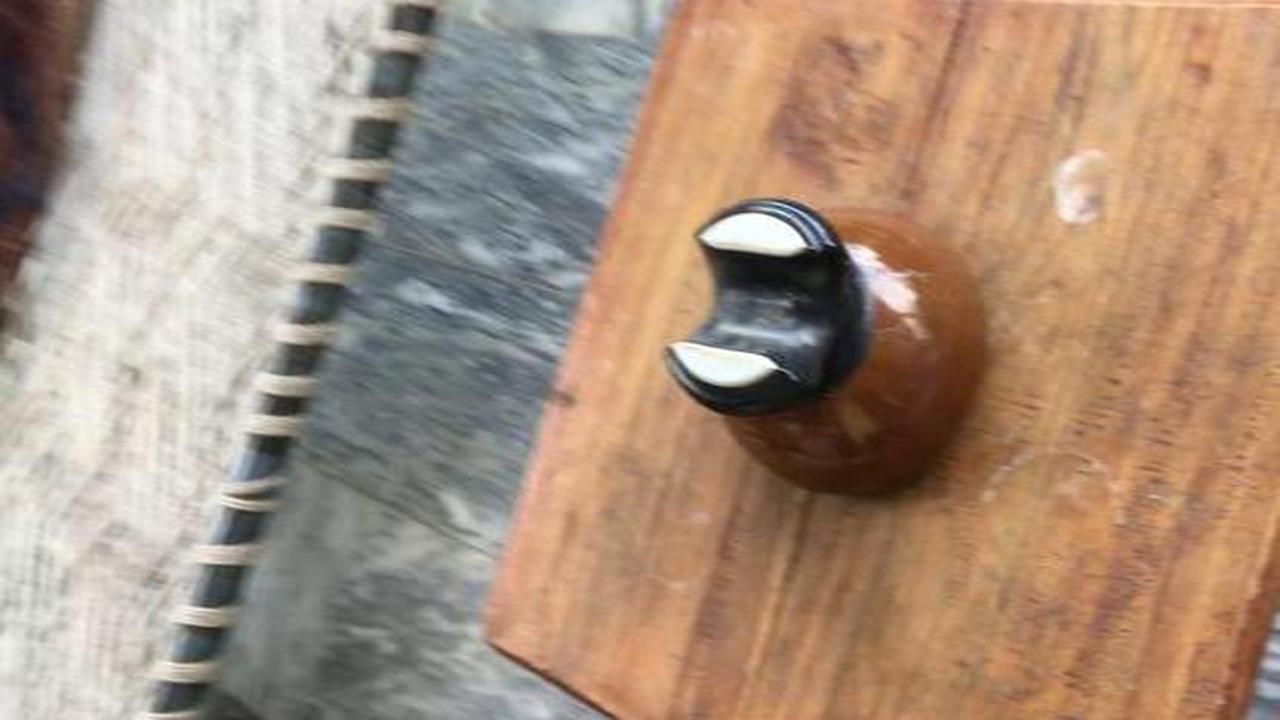insulator_pin: (647, 189, 1022, 520)
